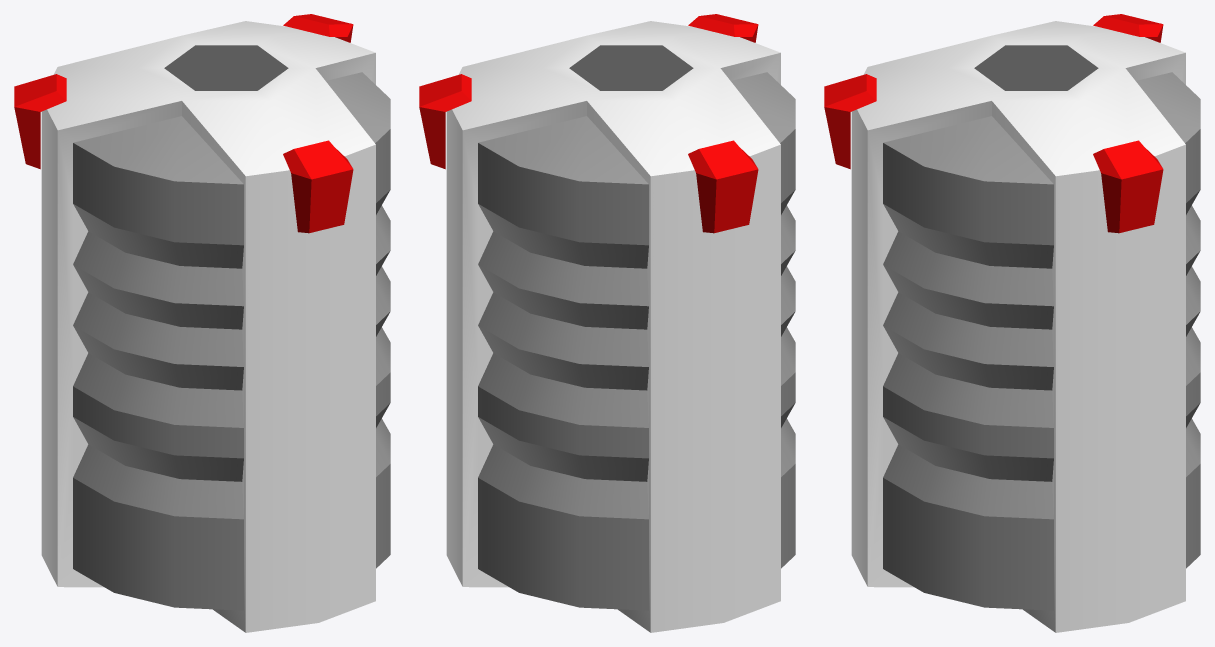
File: food_containers_1.fbx
3 renders of one model, left to right at view 1: azimuth 30°, elevation 25°; view 2: azimuth 150°, elevation 25°; view 3: azimuth 270°, elevation 25°, orthographic.
Visible parts, largest first — view 1: ContainerTri; view 2: ContainerTri; view 3: ContainerTri.
Boxes of the visible parts, x1,y1,x2,y2 form: ContainerTri: (14,14,390,632); ContainerTri: (419,14,795,632); ContainerTri: (824,14,1200,632).
Bounding box in the file's own units: 13.99 × 19.2 × 13.45.
